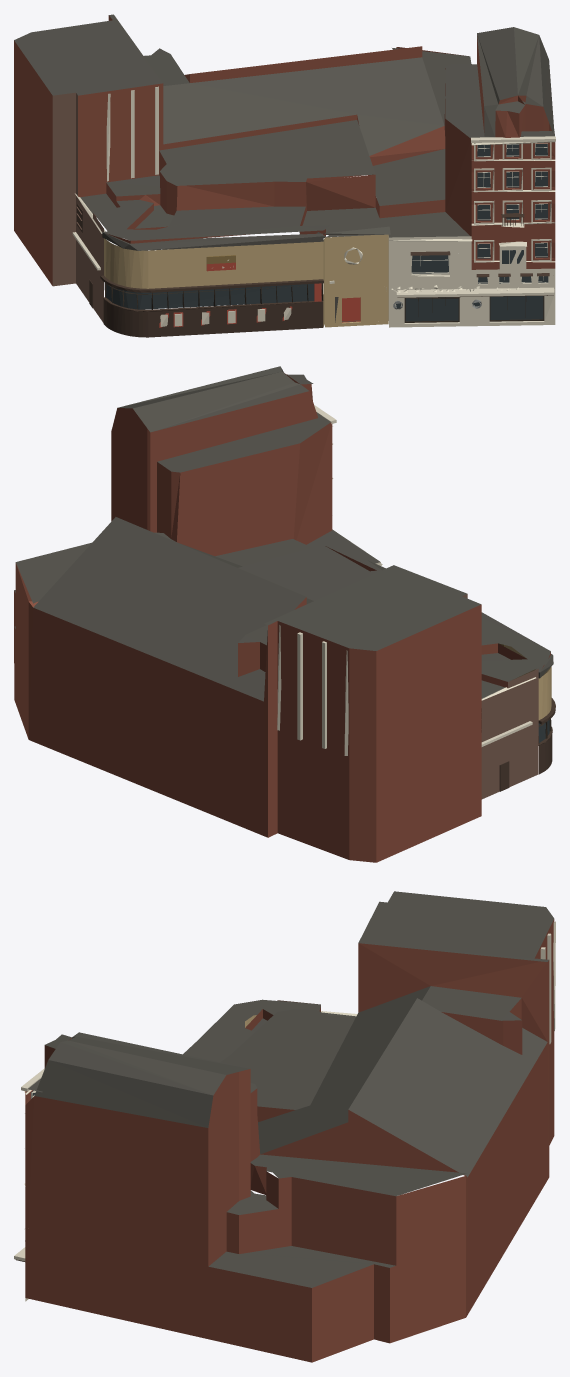
Rendered from theater-bellevue.lod1.glb.
The picture shows the model from 3 angles, top to bottom: view 1: azimuth 30°, elevation 25°; view 2: azimuth 150°, elevation 25°; view 3: azimuth 270°, elevation 25°; orthographic projection. The views are drawn at different scales.
Visible parts, largest first — view 1: theater-bellevue; view 2: theater-bellevue; view 3: theater-bellevue.
Boxes of the visible parts, x1,y1,x2,y2 form: theater-bellevue: (14,14,555,337); theater-bellevue: (14,366,555,862); theater-bellevue: (14,891,555,1362).
Size of the model in its own units: 44.52 by 20.47 by 39.77.
